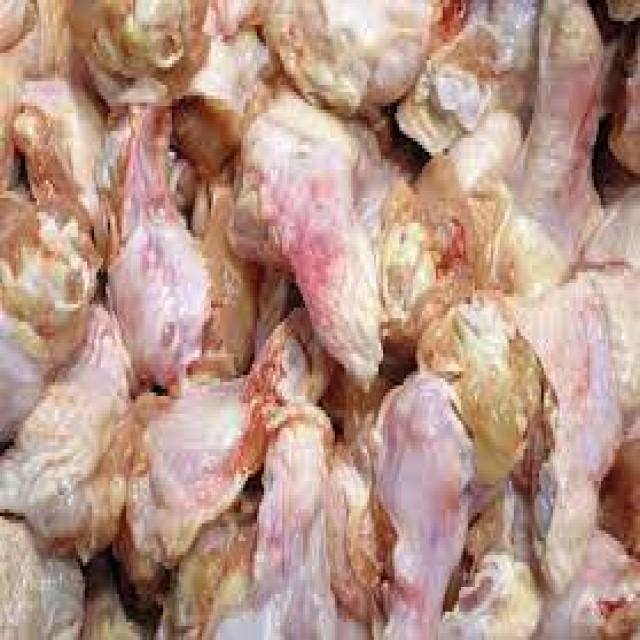Wet: (0, 0, 640, 640), (210, 64, 411, 387), (104, 61, 222, 401)
